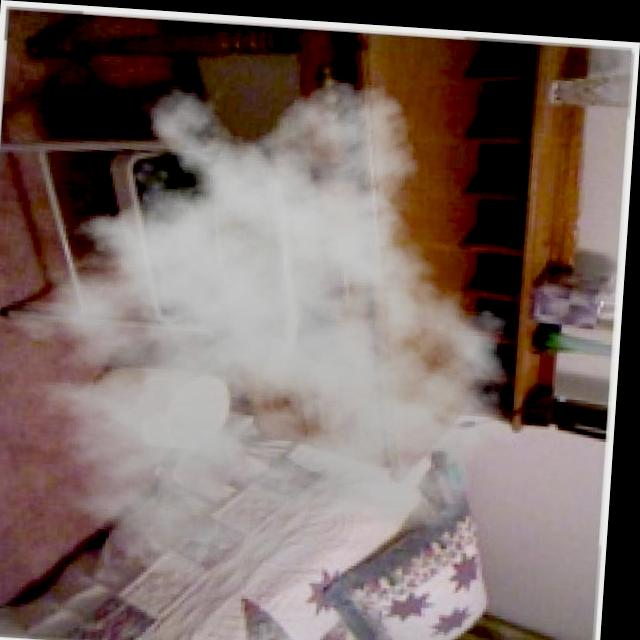Smoke: (0, 54, 557, 600)
